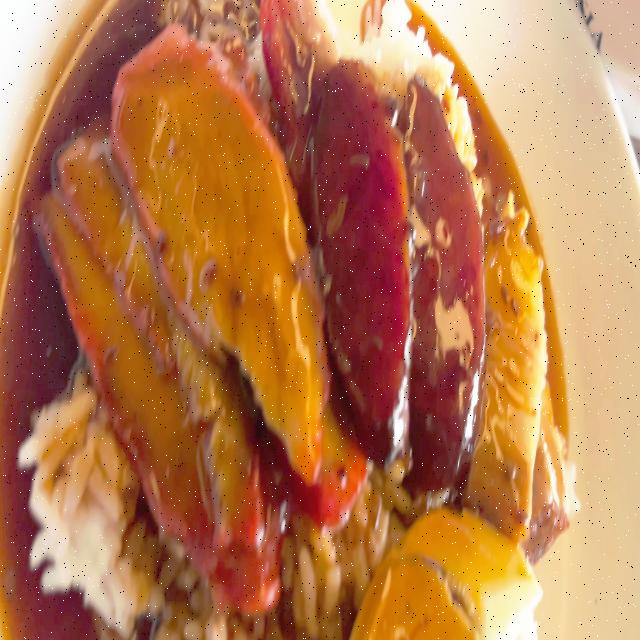boiled_egg: (359, 516, 538, 640)
chainese_sausage: (318, 45, 480, 498), (310, 55, 400, 450), (408, 74, 483, 516)
crispy_pork: (485, 186, 567, 547), (493, 188, 537, 538)
red_pork: (38, 41, 328, 571), (123, 23, 326, 470), (59, 138, 269, 528), (259, 0, 333, 104)
red_pork_and_crispy_pork: (23, 0, 582, 640)
rice: (31, 405, 132, 620), (354, 0, 449, 88)
